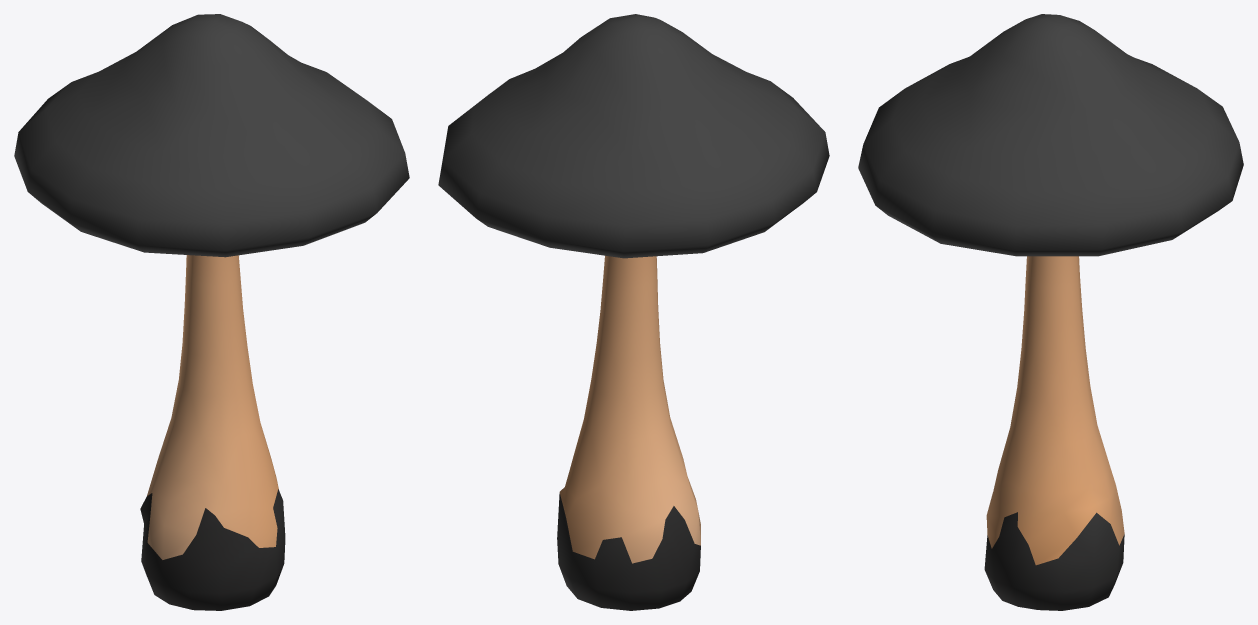
The model's file is mushroom 24.fbx.
3 views of the same model, side by side, from view 1: azimuth 30°, elevation 25°; view 2: azimuth 150°, elevation 25°; view 3: azimuth 270°, elevation 25° (orthographic).
Parts seen in each view (by area): view 1: Mushroom_0001_0024; view 2: Mushroom_0001_0024; view 3: Mushroom_0001_0024.
Boxes of the visible parts, x1,y1,x2,y2 form: Mushroom_0001_0024: [14, 14, 409, 610]; Mushroom_0001_0024: [438, 14, 829, 610]; Mushroom_0001_0024: [858, 14, 1243, 610].
Size of the model in its own units: 19.13 by 31.85 by 19.51.
1 material, 1 textured.
